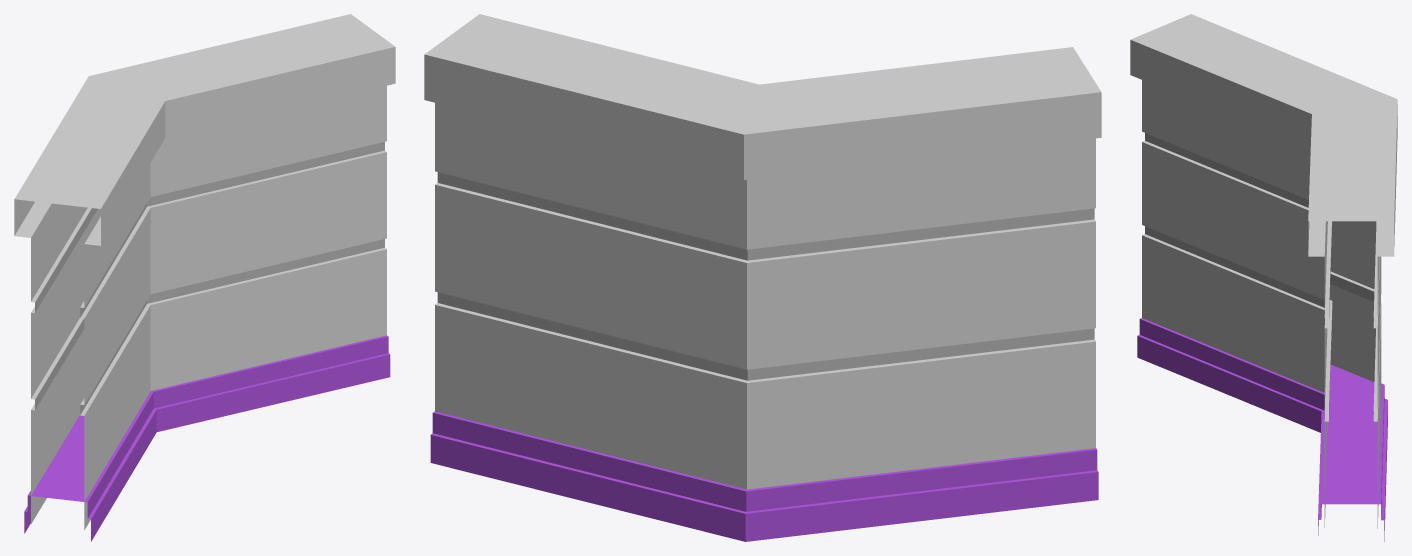
Rendered from Arc45_right.fbx.
3 views of the same model, side by side, from view 1: azimuth 30°, elevation 25°; view 2: azimuth 150°, elevation 25°; view 3: azimuth 270°, elevation 25° (orthographic). The views are drawn at different scales.
Parts seen in each view (by area): view 1: Base, Under_Base; view 2: Base, Under_Base; view 3: Base, Under_Base.
Boxes of the visible parts, x1,y1,x2,y2 form: Base: (14, 14, 395, 529); Under_Base: (24, 335, 390, 541); Base: (424, 14, 1101, 489); Under_Base: (430, 411, 1098, 541); Base: (1130, 14, 1397, 528); Under_Base: (1137, 318, 1387, 541).
Bounding box in the file's own units: 5.95 × 4.3 × 3.25.
